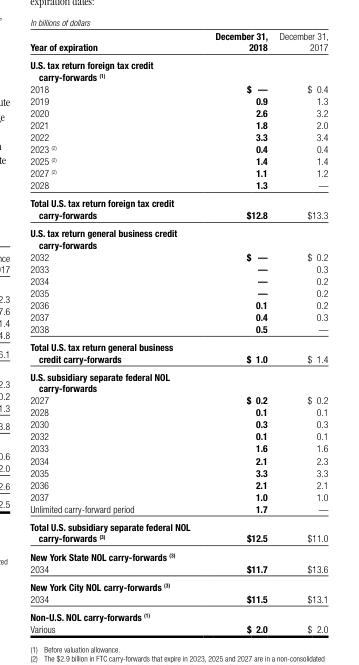table: (29, 29, 327, 633)
table column: (29, 29, 201, 633), (201, 29, 272, 633), (272, 29, 327, 633)
table column header: (29, 29, 327, 55)
table projected row header: (29, 55, 327, 82), (29, 223, 327, 250), (29, 367, 327, 393), (29, 546, 327, 562), (29, 577, 327, 592), (29, 607, 327, 622)
table row: (29, 193, 327, 223), (29, 337, 327, 367), (29, 517, 327, 546), (29, 55, 327, 82), (29, 223, 327, 250), (29, 29, 327, 55), (29, 367, 327, 393), (29, 546, 327, 562), (29, 178, 327, 193), (29, 322, 327, 337), (29, 502, 327, 517), (29, 562, 327, 577), (29, 577, 327, 592), (29, 592, 327, 607), (29, 607, 327, 622), (29, 477, 327, 490), (29, 82, 327, 94), (29, 94, 327, 106), (29, 106, 327, 118), (29, 118, 327, 130), (29, 130, 327, 142), (29, 142, 327, 154), (29, 154, 327, 166), (29, 166, 327, 178), (29, 250, 327, 262), (29, 262, 327, 274), (29, 274, 327, 286), (29, 286, 327, 298), (29, 298, 327, 310), (29, 310, 327, 322), (29, 393, 327, 405), (29, 405, 327, 417), (29, 417, 327, 429), (29, 429, 327, 441), (29, 441, 327, 453), (29, 453, 327, 465), (29, 465, 327, 477), (29, 490, 327, 502), (29, 622, 327, 633)
